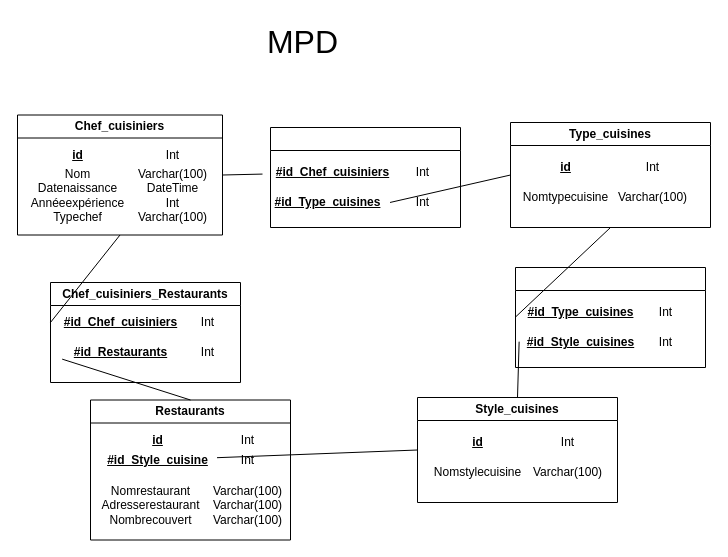
This 728x557 diagram has some shape labels left out. Here are the shapes that lost their labels. From the top down, the box of each, then its label:
(270, 126, 460, 228): Chef_cuisiniers_Type_cuisines
(514, 266, 706, 368): Type_cuisines_Style_cuisines
